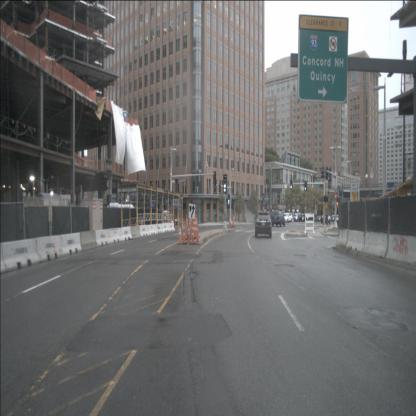human-pedestrian-adult: (328, 215, 331, 225), (326, 212, 328, 226), (215, 211, 217, 223)
movable_object-barrier: (1, 237, 39, 276), (384, 232, 416, 270), (362, 230, 390, 260), (37, 231, 62, 264), (61, 231, 80, 258), (346, 229, 366, 253), (81, 230, 96, 252), (336, 228, 349, 249), (96, 227, 108, 246), (108, 228, 122, 243), (120, 226, 132, 243), (131, 224, 140, 239), (148, 223, 158, 236), (140, 224, 148, 238), (155, 223, 163, 235), (162, 222, 169, 233), (168, 222, 176, 231)
movable_object-trafficcone: (190, 218, 195, 244), (186, 225, 191, 245), (188, 214, 192, 239), (182, 225, 186, 245), (178, 225, 182, 245), (195, 215, 198, 238), (195, 231, 200, 244), (186, 214, 188, 240), (229, 216, 233, 228), (182, 217, 185, 232), (194, 216, 196, 238), (232, 214, 234, 227), (233, 214, 235, 227), (184, 218, 186, 230)
vehicle-car: (254, 213, 272, 238), (272, 210, 286, 227), (302, 213, 314, 222), (282, 213, 292, 223), (292, 213, 303, 222), (321, 216, 331, 224)
